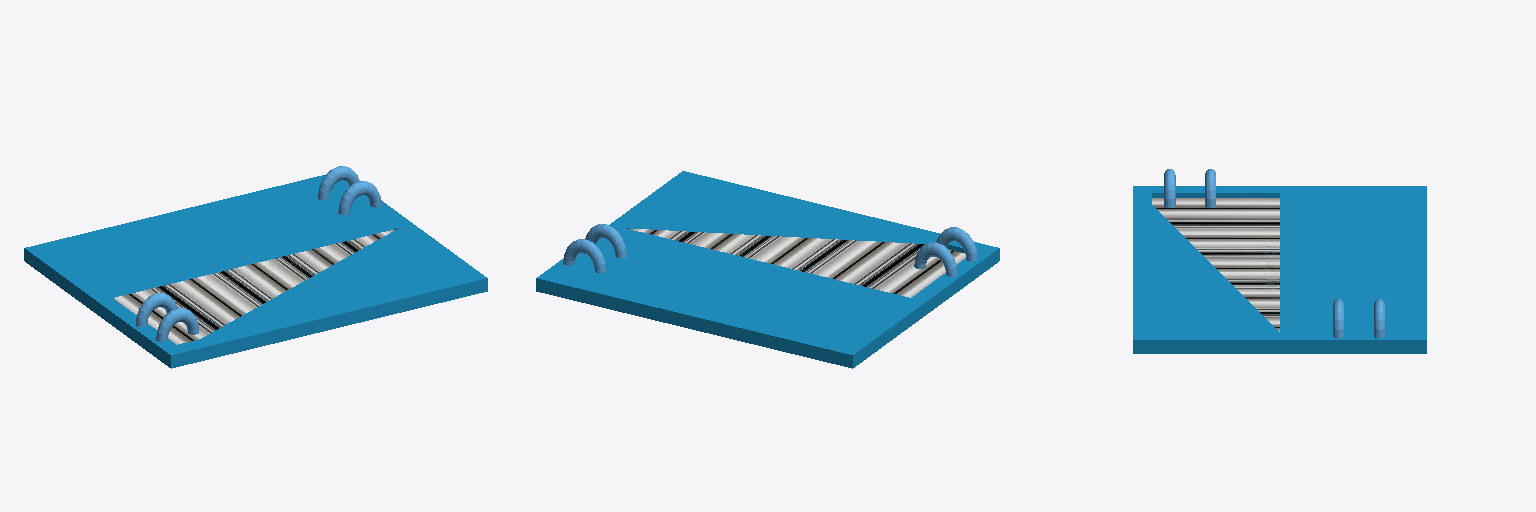
The picture shows the model from 3 angles: view 1: azimuth 30°, elevation 25°; view 2: azimuth 150°, elevation 25°; view 3: azimuth 270°, elevation 25°; orthographic projection.
Visible parts, largest first — view 1: Box001, agua, Object002, Object001, escaleras2, Cylinder001; view 2: Box001, agua, escaleras2, Cylinder001, Object002, Object001; view 3: Box001, agua.
Boxes of the visible parts, x1,y1,x2,y2 form: Box001: [24, 175, 487, 368]; agua: [114, 230, 394, 344]; Object002: [156, 308, 198, 341]; Object001: [338, 181, 381, 214]; escaleras2: [136, 293, 176, 326]; Cylinder001: [318, 166, 359, 199]; Box001: [536, 171, 999, 368]; agua: [630, 229, 965, 297]; escaleras2: [914, 242, 957, 276]; Cylinder001: [563, 239, 606, 272]; Object002: [936, 227, 977, 261]; Object001: [585, 224, 626, 257]; Box001: [1133, 186, 1426, 353]; agua: [1152, 198, 1279, 331].
Size of the model in its own units: 245 by 30.2 by 197.
Materials: 3 (3 with a texture image).